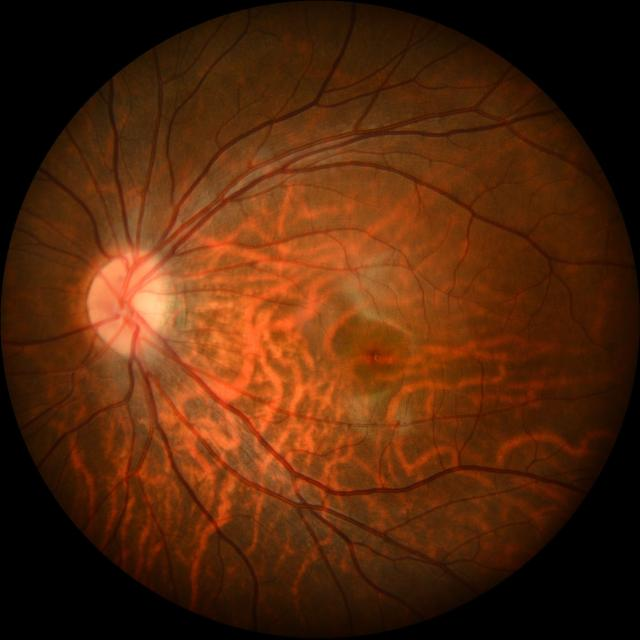OC: (122, 284, 157, 324)
OD: (88, 251, 170, 354)
